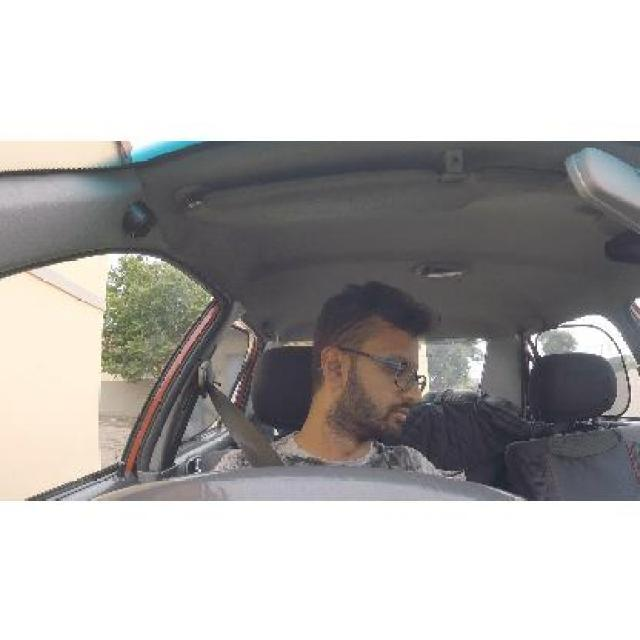LeftRight: (283, 245, 447, 457)
